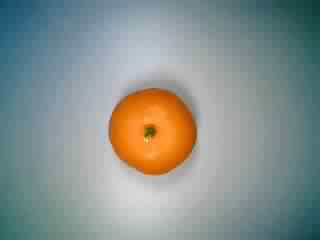orange: (106, 75, 201, 177)
